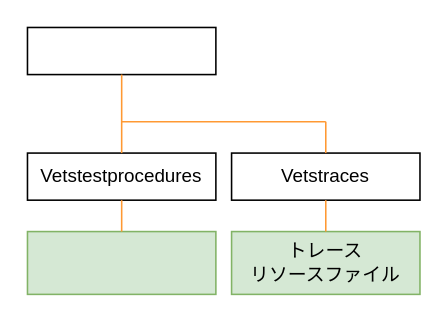
Some shapes in this 447 by 322 pixel diagram are drawn without their labels. The shapes that lost their labels are listed below. From the top down, each one's centre as x and y in pixels, then its label:
At point (121, 50): "VETS Data".
At point (121, 262): "テストプロシージャ リソースファイル".
